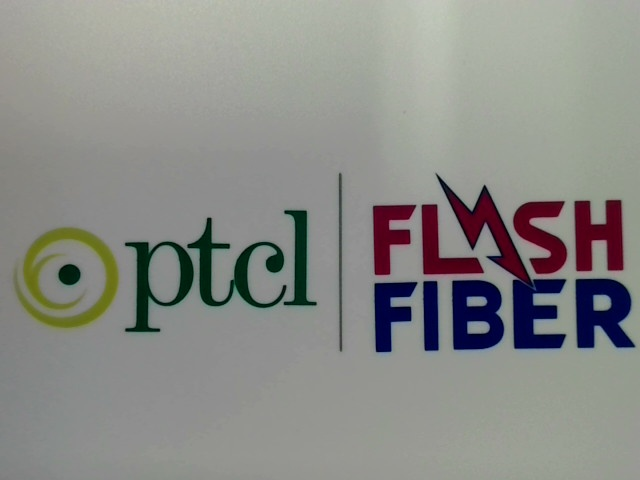BF_PTCL: (2, 200, 321, 333)
